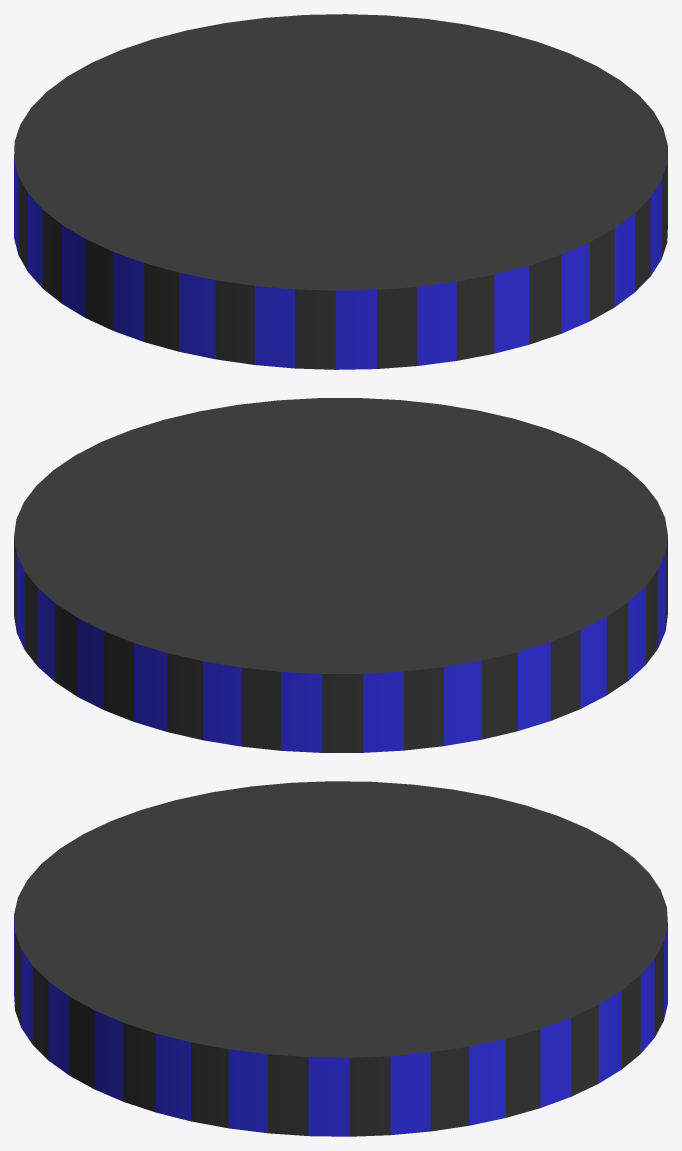
Rendered from twowheel_right_ld.dae.
The picture shows the model from 3 angles, top to bottom: view 1: azimuth 30°, elevation 25°; view 2: azimuth 150°, elevation 25°; view 3: azimuth 270°, elevation 25°; orthographic projection.
Parts seen in each view (by area): view 1: SketchUp (×12); view 2: SketchUp (×13); view 3: SketchUp (×12).
Boxes of the visible parts, <box> form: SketchUp (×12): <box>14,14,667,369</box>; SketchUp (×13): <box>14,398,667,752</box>; SketchUp (×12): <box>14,781,667,1136</box>.
Bounding box in the file's own units: 1.18 × 1.18 × 0.1575.
